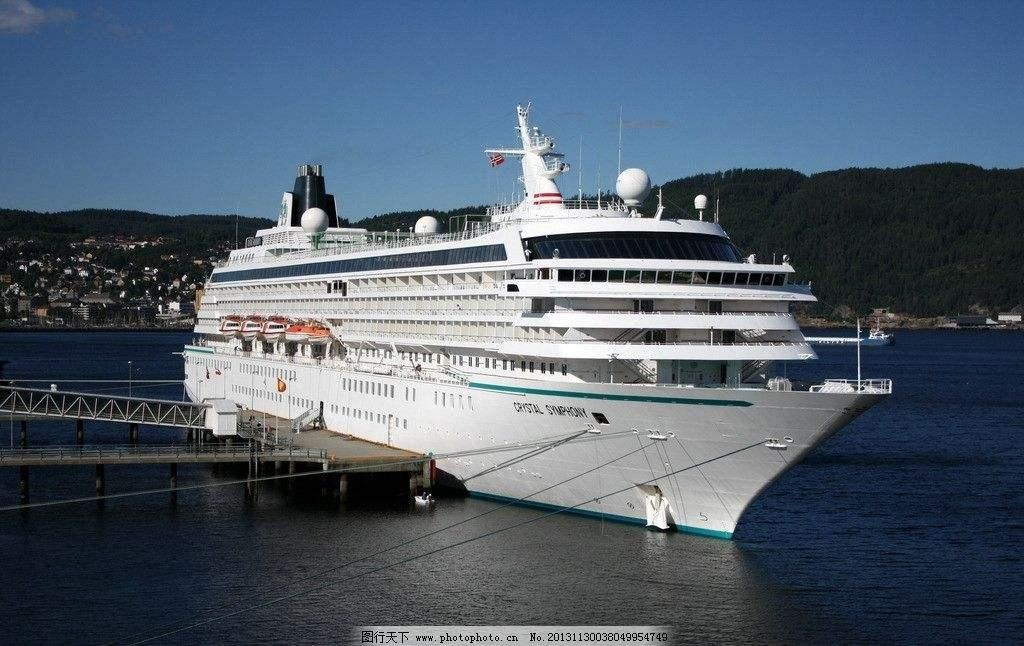youlun: (186, 102, 902, 562)
